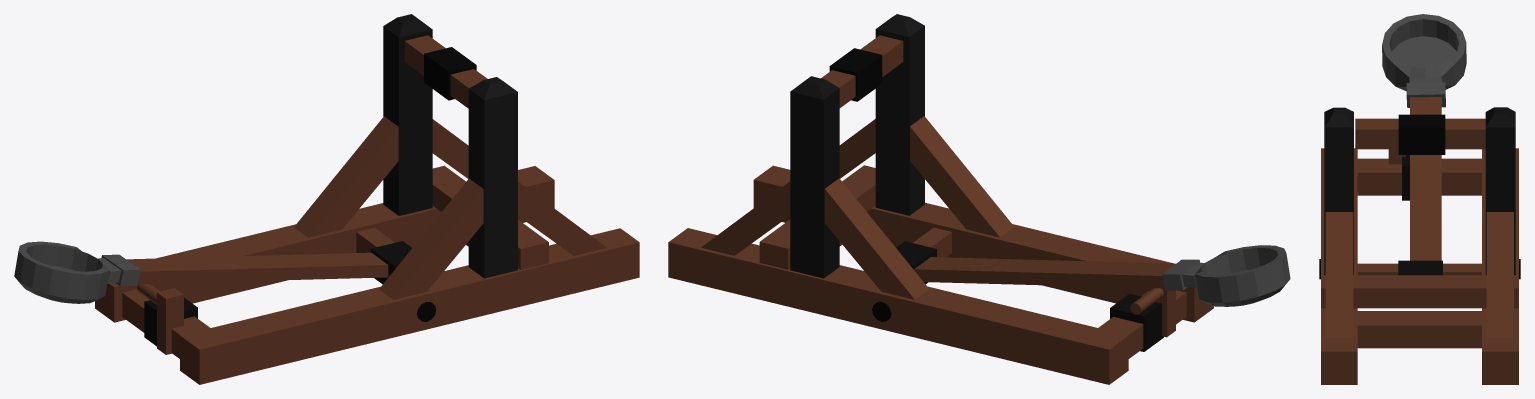
Rendered from StoneAgeTurret3.fbx.
3 views of the same model, side by side, from view 1: azimuth 30°, elevation 25°; view 2: azimuth 150°, elevation 25°; view 3: azimuth 270°, elevation 25° (orthographic). The views are drawn at different scales.
Parts seen in each view (by area): view 1: Arm, Body; view 2: Arm, Body; view 3: Arm, Body.
Part boxes in pixels (x1,y1,x2,y2): Arm: [95, 14, 639, 384]; Body: [14, 241, 411, 303]; Arm: [668, 14, 1213, 384]; Body: [896, 241, 1290, 306]; Arm: [1319, 107, 1520, 384]; Body: [1382, 14, 1466, 275].
Bounding box in the file's own units: 3365 × 1268 × 1095.
